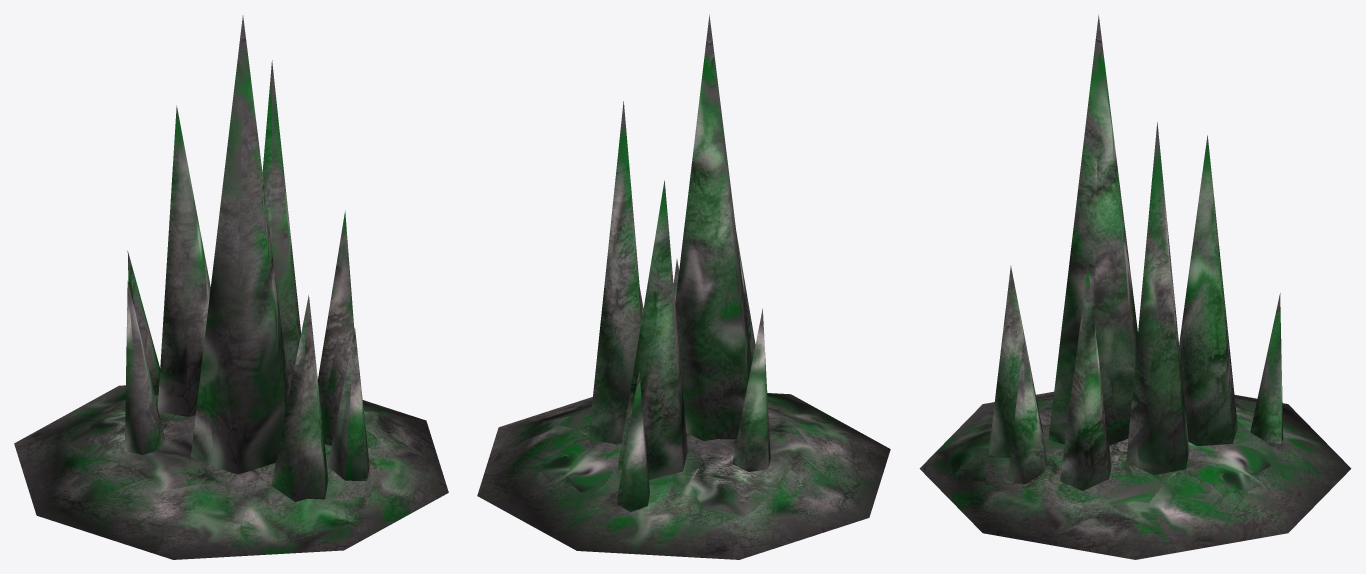
File: stalactites4.fbx
3 views of the same model, side by side, from view 1: azimuth 30°, elevation 25°; view 2: azimuth 150°, elevation 25°; view 3: azimuth 270°, elevation 25° (orthographic). The views are drawn at different scales.
Visible parts, largest first — view 1: Stalactites4; view 2: Stalactites4; view 3: Stalactites4.
Boxes of the visible parts, bbox=[...] form: Stalactites4: bbox=[14, 15, 448, 559]; Stalactites4: bbox=[477, 14, 890, 559]; Stalactites4: bbox=[919, 15, 1351, 559].
Bounding box in the file's own units: 222 × 262 × 222.
1 material, 1 textured.
